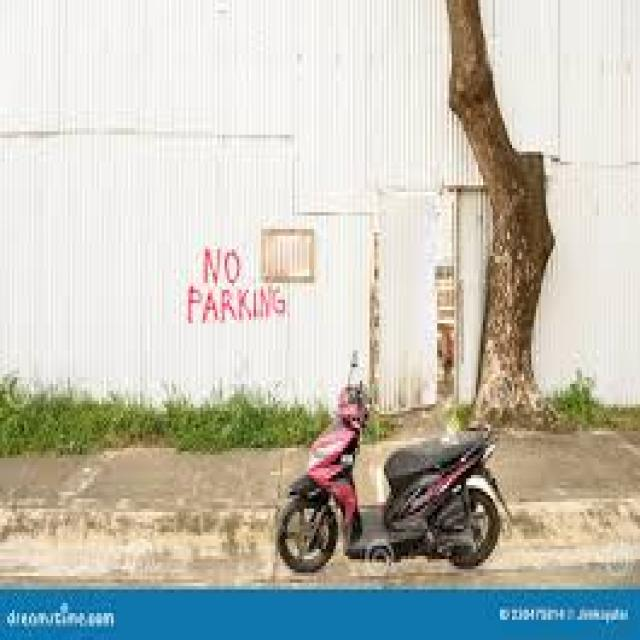No Parking: (260, 337, 510, 592)
